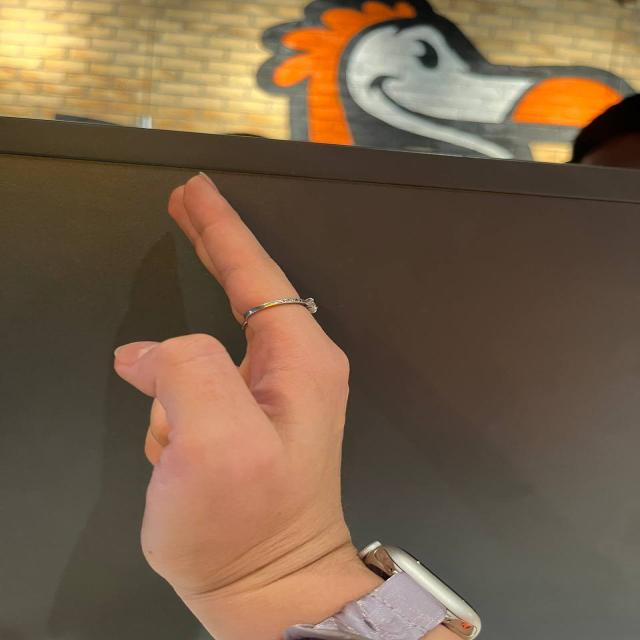d: (91, 143, 391, 535)
